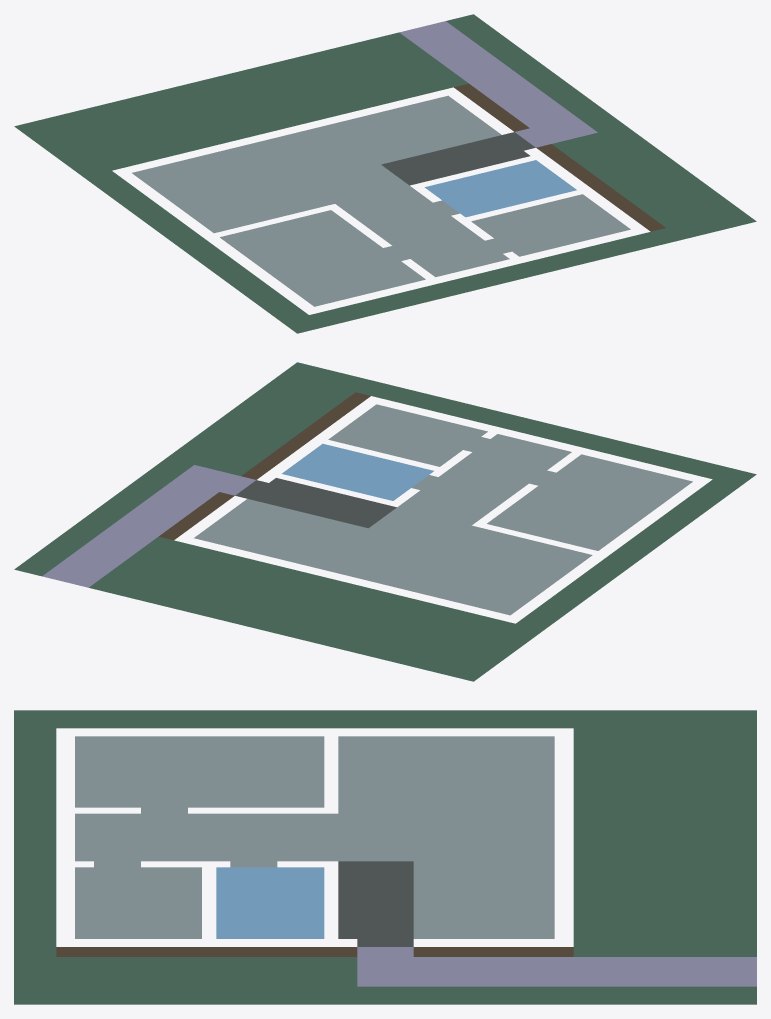
The model's file is C_home_floor.fbx.
3 renders of one model, top to bottom at view 1: azimuth 30°, elevation 25°; view 2: azimuth 150°, elevation 25°; view 3: azimuth 270°, elevation 25°, orthographic. The views are drawn at different scales.
Parts seen in each view (by area): view 1: floor; view 2: floor; view 3: floor.
Boxes of the visible parts, left/top/right/bottom form: floor: left=14, top=14, right=756, bottom=333; floor: left=14, top=362, right=756, bottom=681; floor: left=14, top=710, right=756, bottom=1004.
Bounding box in the file's own units: 14.8 × 15.8 × 0.
